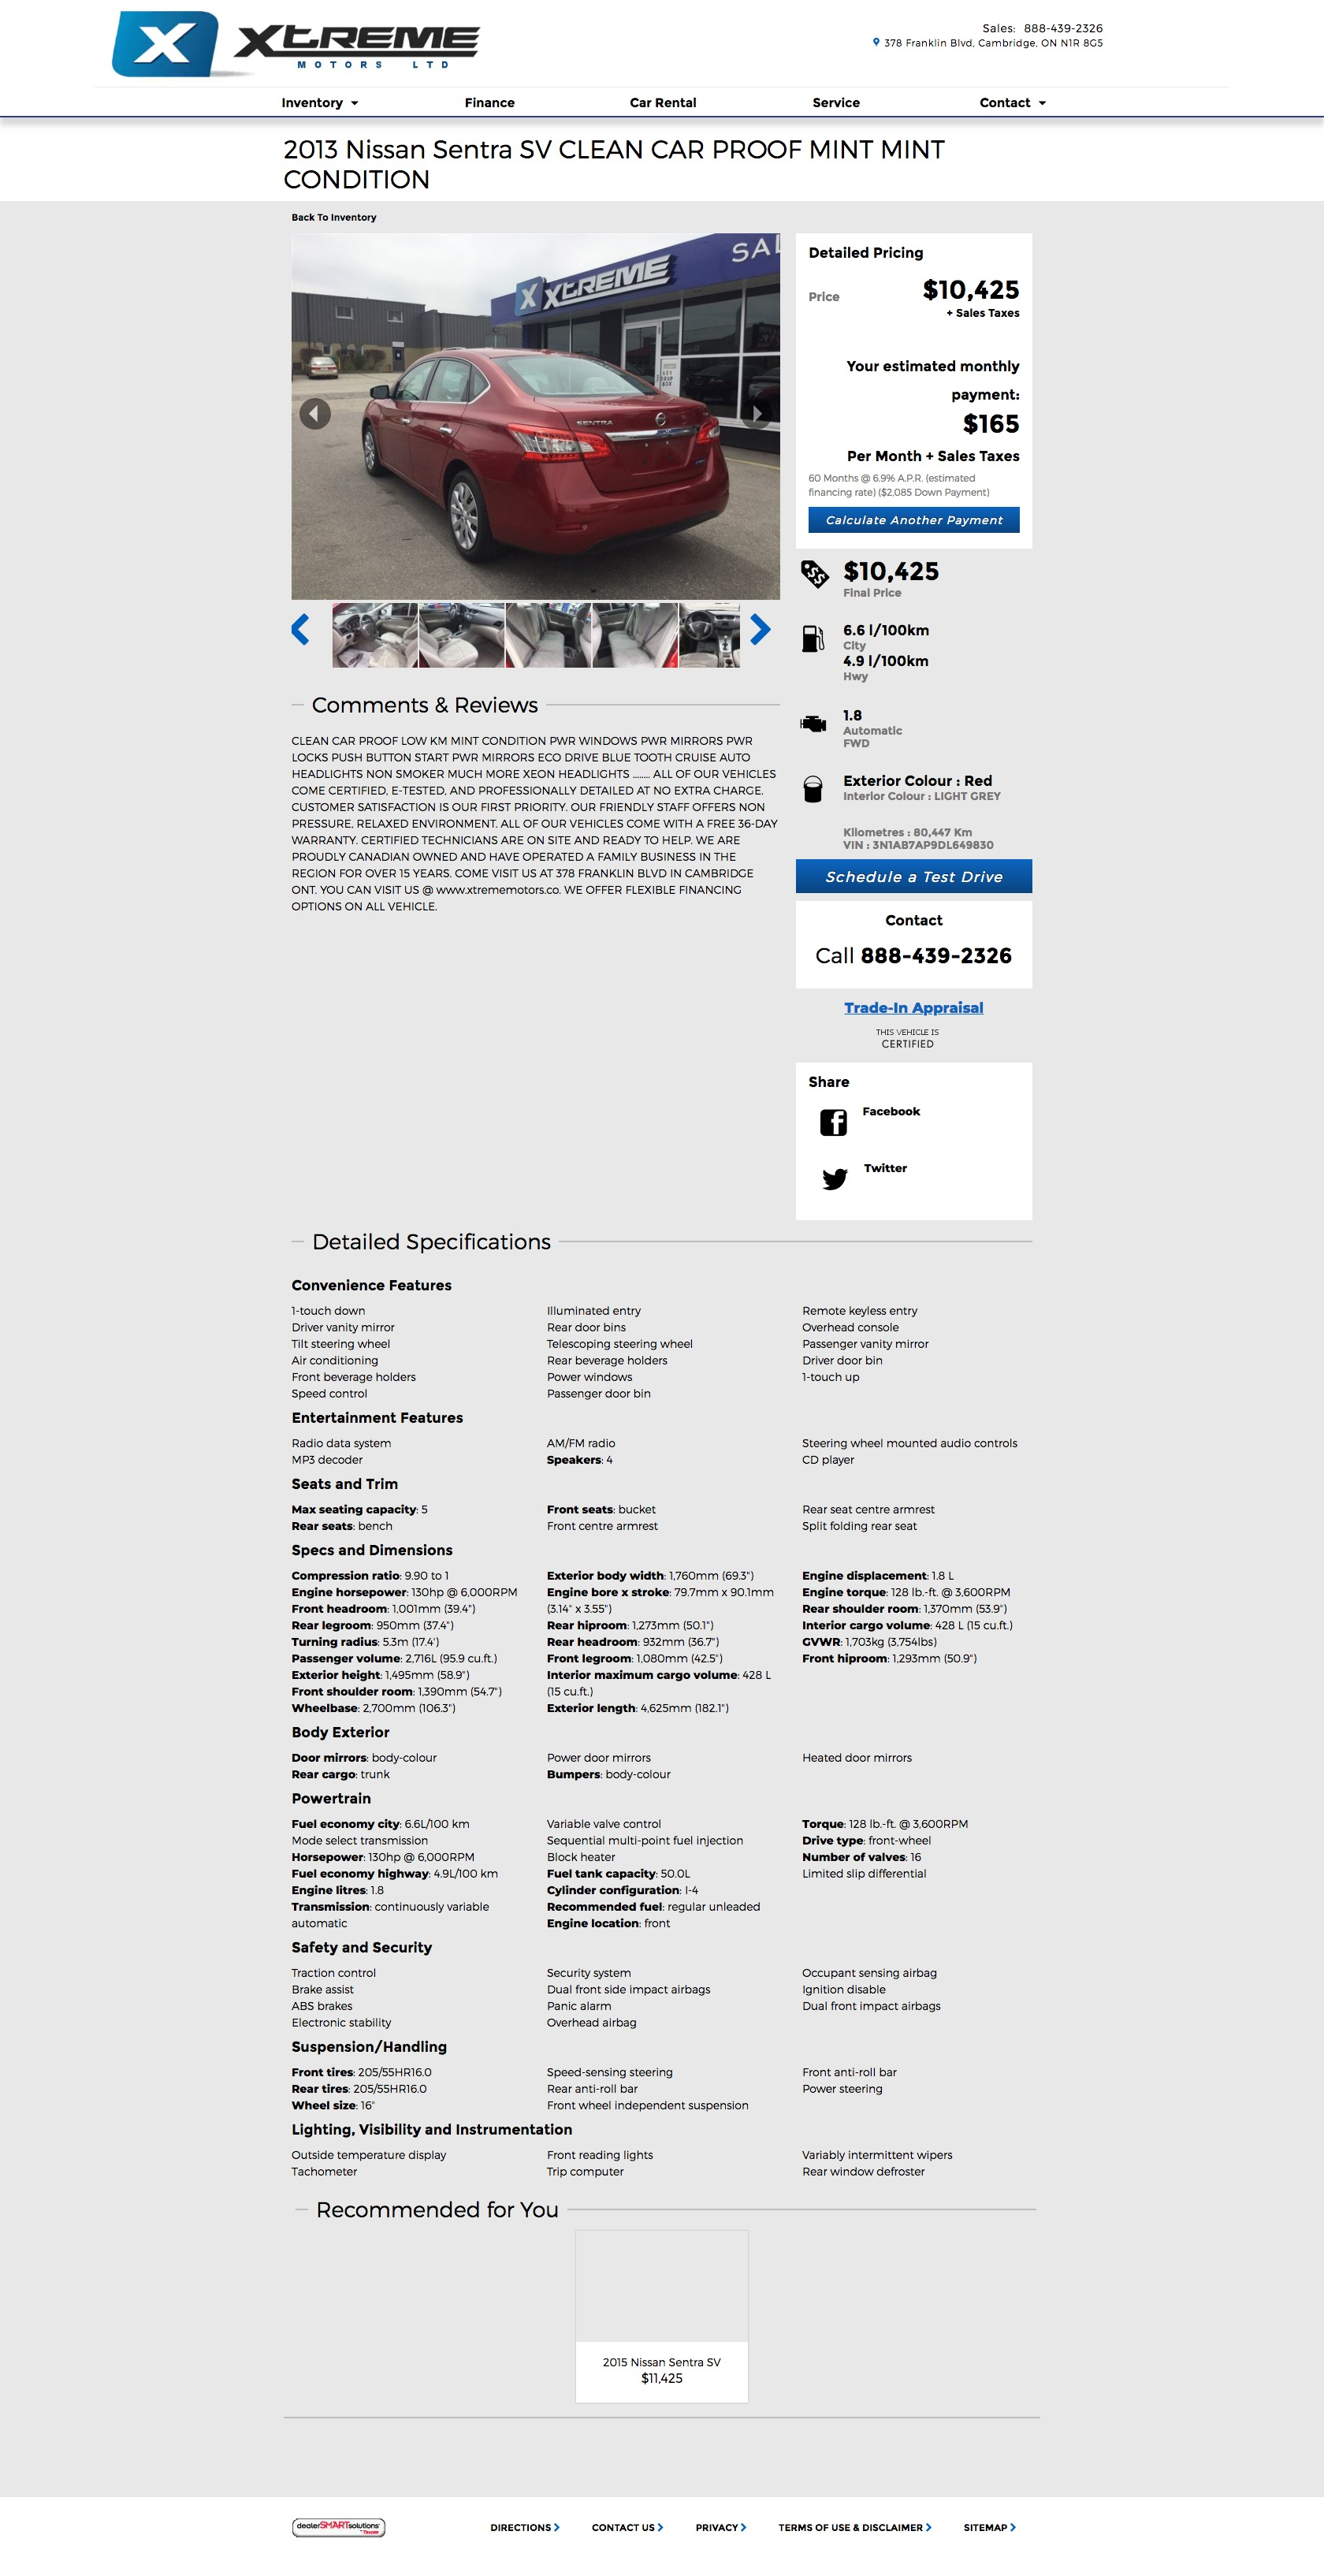car: (752, 614, 772, 645)
